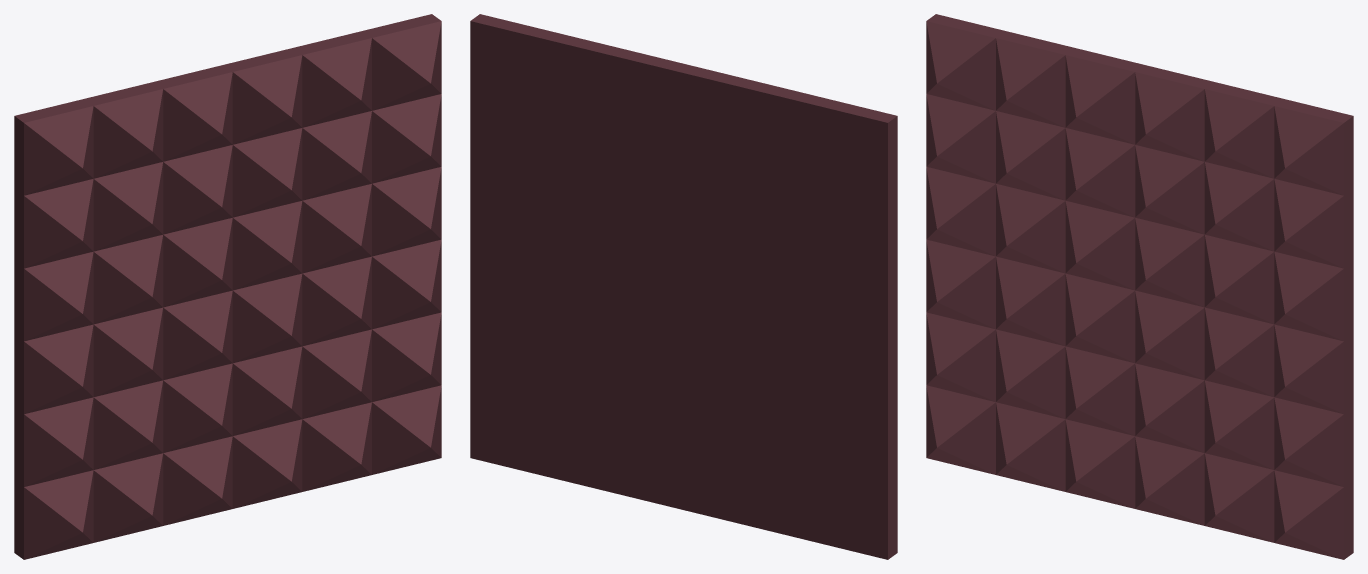
File: sound-blocking-panel.fbx
The picture shows the model from 3 angles, left to right: view 1: azimuth 30°, elevation 25°; view 2: azimuth 150°, elevation 25°; view 3: azimuth 330°, elevation 25°; orthographic projection.
Visible parts, largest first — view 1: sound-blocking-panel; view 2: sound-blocking-panel; view 3: sound-blocking-panel.
Part boxes in pixels (bbox=[...]): sound-blocking-panel: bbox=[14, 14, 441, 559]; sound-blocking-panel: bbox=[470, 14, 897, 559]; sound-blocking-panel: bbox=[926, 14, 1353, 559].
Bounding box in the file's own units: 0.5 × 0.5 × 0.07.
